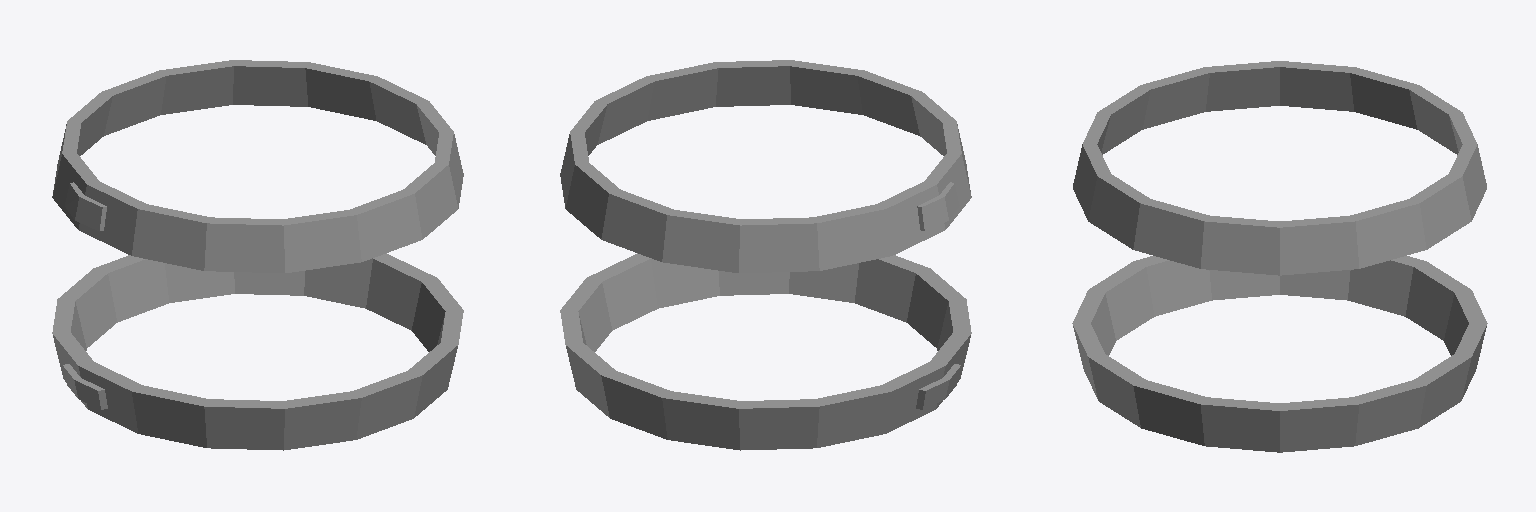
The model's file is metal_barrio.obj.
3 renders of one model, left to right at view 1: azimuth 30°, elevation 25°; view 2: azimuth 150°, elevation 25°; view 3: azimuth 270°, elevation 25°, orthographic.
Parts seen in each view (by area): view 1: Circle.002_Circle.003; view 2: Circle.002_Circle.003; view 3: Circle.002_Circle.003.
Part boxes in pixels (left/top/right/bottom): Circle.002_Circle.003: left=52, top=60, right=463, bottom=450; Circle.002_Circle.003: left=560, top=60, right=971, bottom=450; Circle.002_Circle.003: left=1072, top=61, right=1487, bottom=452.
Bounding box in the file's own units: 2.8 × 1.66 × 2.77.